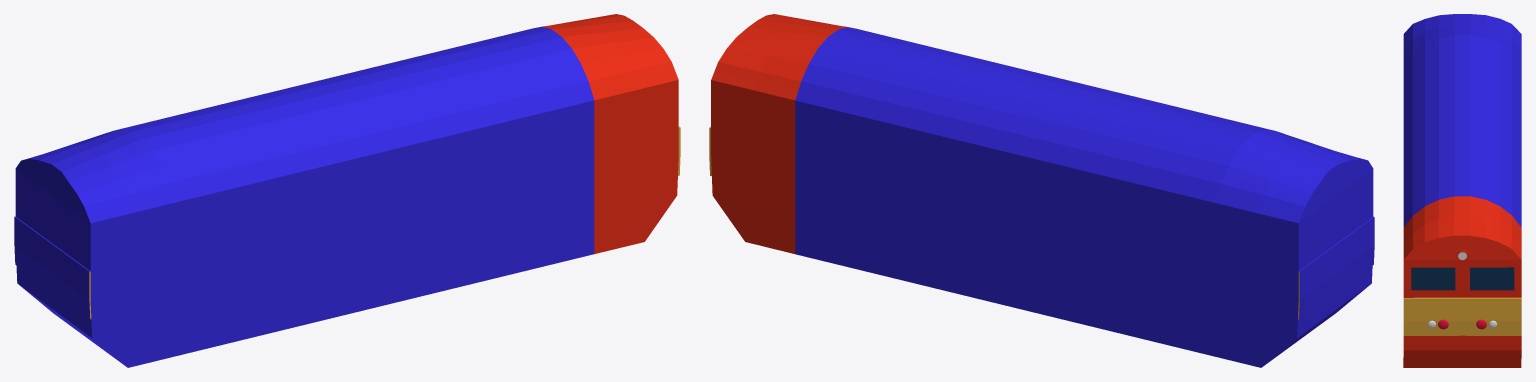
The model's file is vez.glb.
The picture shows the model from 3 angles, left to right: view 1: azimuth 30°, elevation 25°; view 2: azimuth 150°, elevation 25°; view 3: azimuth 270°, elevation 25°; orthographic projection. The views are drawn at different scales.
Parts seen in each view (by area): view 1: Engine; view 2: Engine; view 3: Engine.
Boxes of the visible parts, x1=… form: Engine: x1=14, y1=14, x2=680, y2=367; Engine: x1=709, y1=14, x2=1374, y2=367; Engine: x1=1403, y1=14, x2=1521, y2=367.
Bounding box in the file's own units: 14.14 × 4.41 × 3.1.
